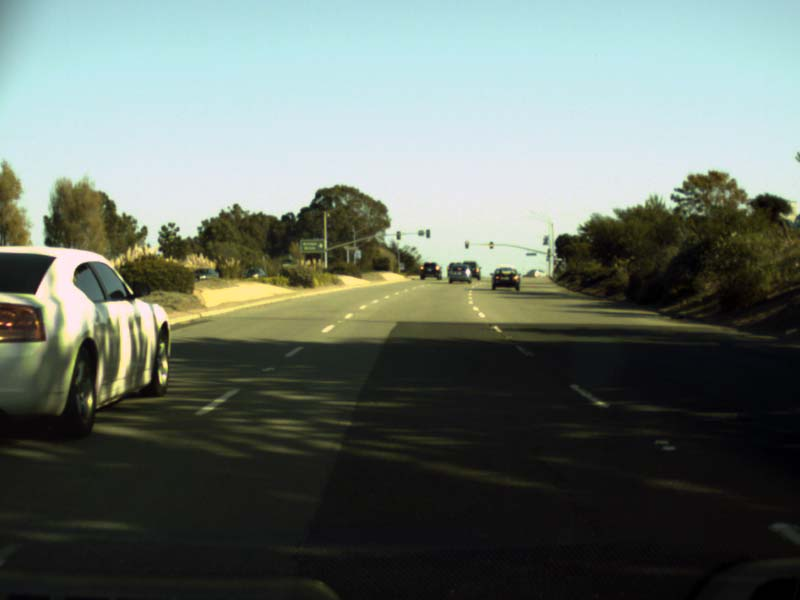Red: (464, 240, 468, 248)
